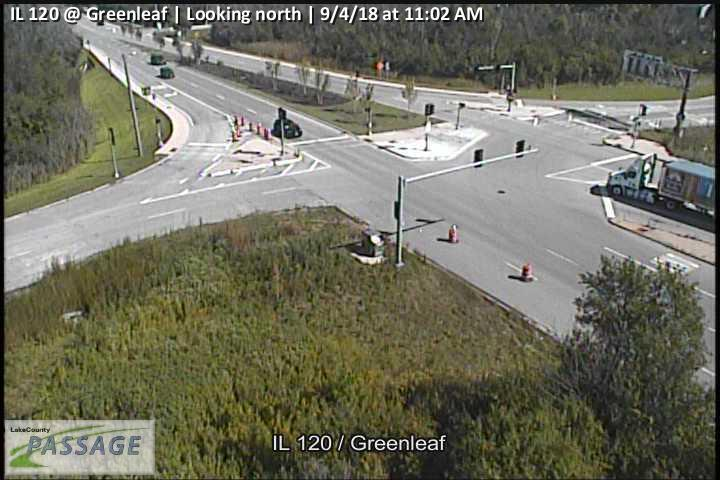SUV: (274, 118, 303, 139)
Truck: (605, 152, 720, 217)
